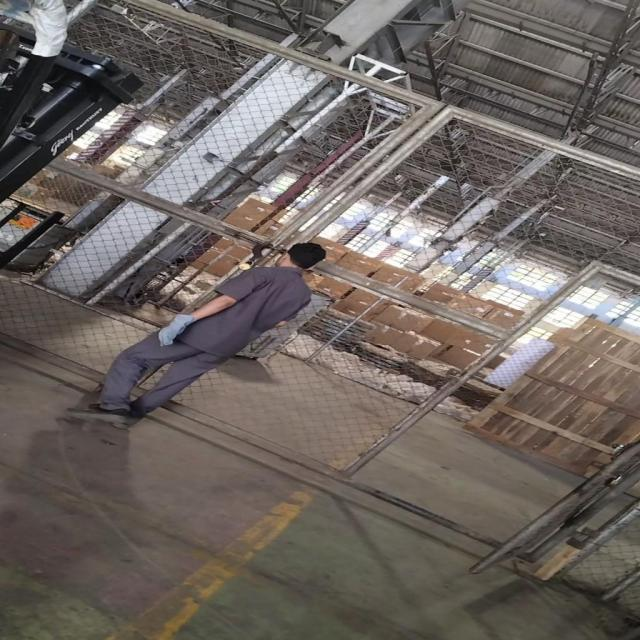Gloves-Detection: (160, 311, 190, 355)
